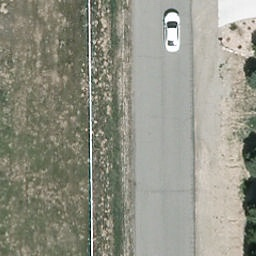car: (163, 12, 181, 53)
